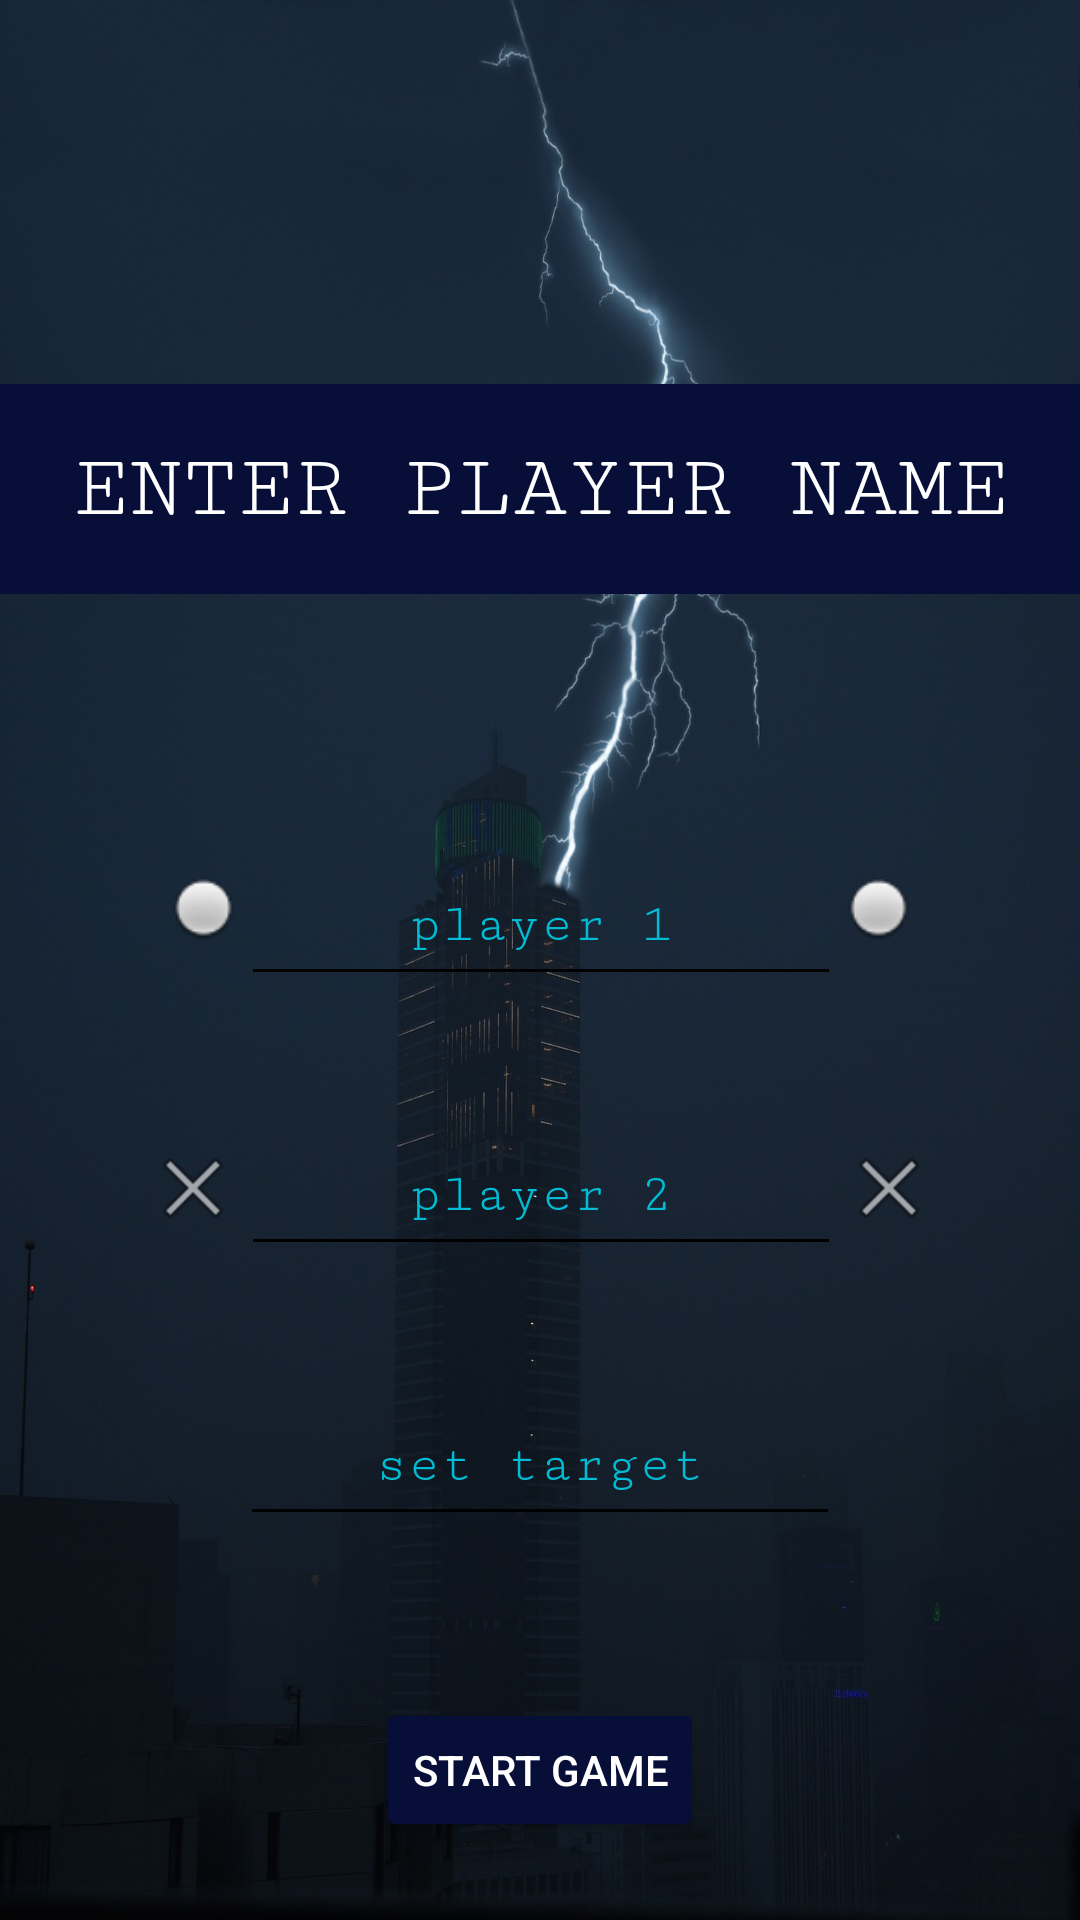

Where icons sit on this 1080x1920 app screen, as box(x1, y1, x2, y2):
close clear cancel: box(166, 1161, 220, 1215), box(862, 1161, 916, 1215)
